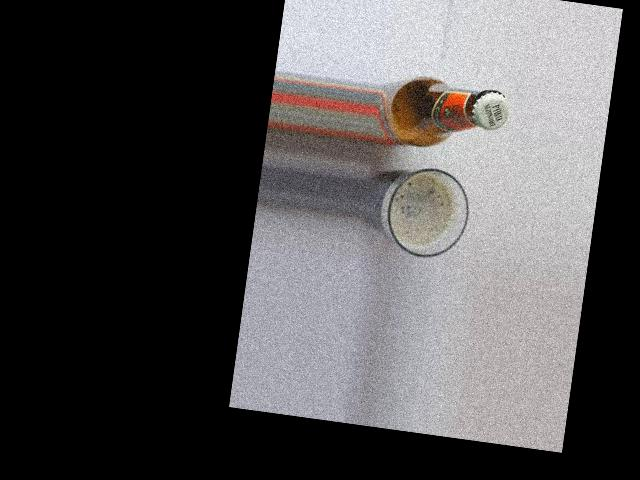beer: (370, 71, 511, 162)
